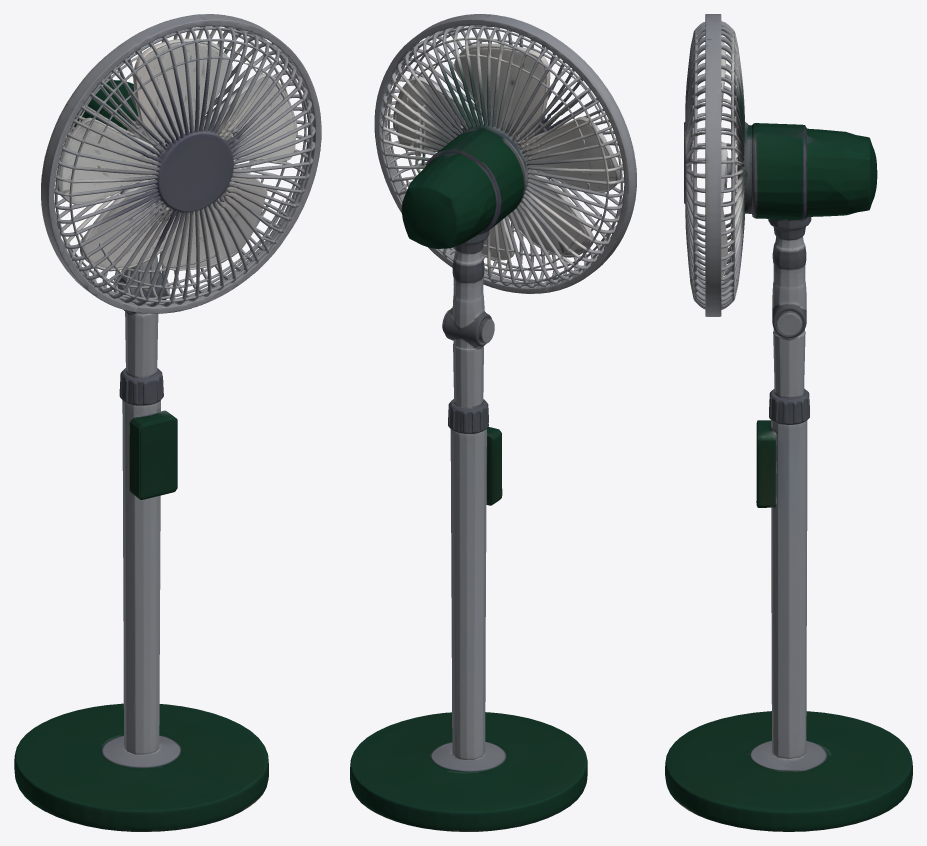
The model's file is stand_fan__hunyuan.glb.
The picture shows the model from 3 angles, left to right: view 1: azimuth 30°, elevation 25°; view 2: azimuth 150°, elevation 25°; view 3: azimuth 270°, elevation 25°; orthographic projection. The views are drawn at different scales.
Visible parts, largest first — view 1: material; view 2: material; view 3: material.
Part boxes in pixels (left/top/right/bottom): material: left=14, top=14, right=321, bottom=831; material: left=350, top=14, right=636, bottom=831; material: left=665, top=14, right=912, bottom=831.
Size of the model in its own units: 0.4188 by 1.15 by 0.3435.
1 material, 1 textured.
